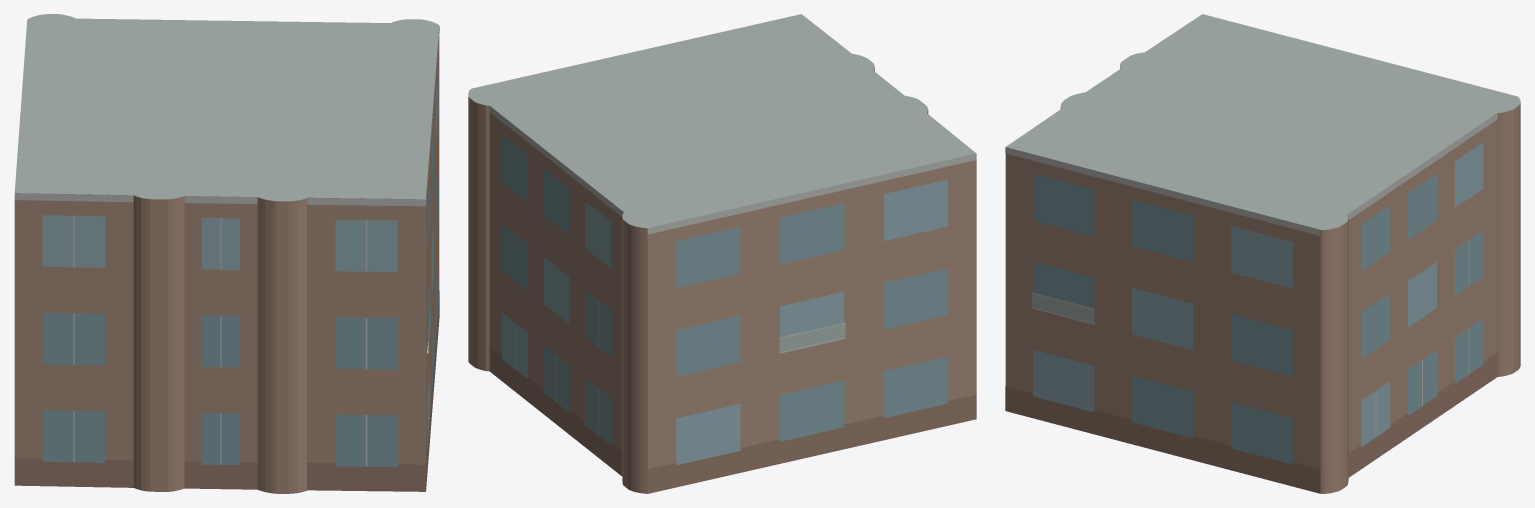
The model's file is survey-upis-32738163.glb.
3 renders of one model, left to right at view 1: azimuth 30°, elevation 25°; view 2: azimuth 150°, elevation 25°; view 3: azimuth 270°, elevation 25°, orthographic. The views are drawn at different scales.
Visible parts, largest first — view 1: survey-upis-32738163.tmp; view 2: survey-upis-32738163.tmp; view 3: survey-upis-32738163.tmp.
Part boxes in pixels (<box>): survey-upis-32738163.tmp: <box>14,14,439,493</box>; survey-upis-32738163.tmp: <box>468,14,976,493</box>; survey-upis-32738163.tmp: <box>1005,14,1520,493</box>.
Size of the model in its own units: 17.72 by 10.1 by 17.87.
